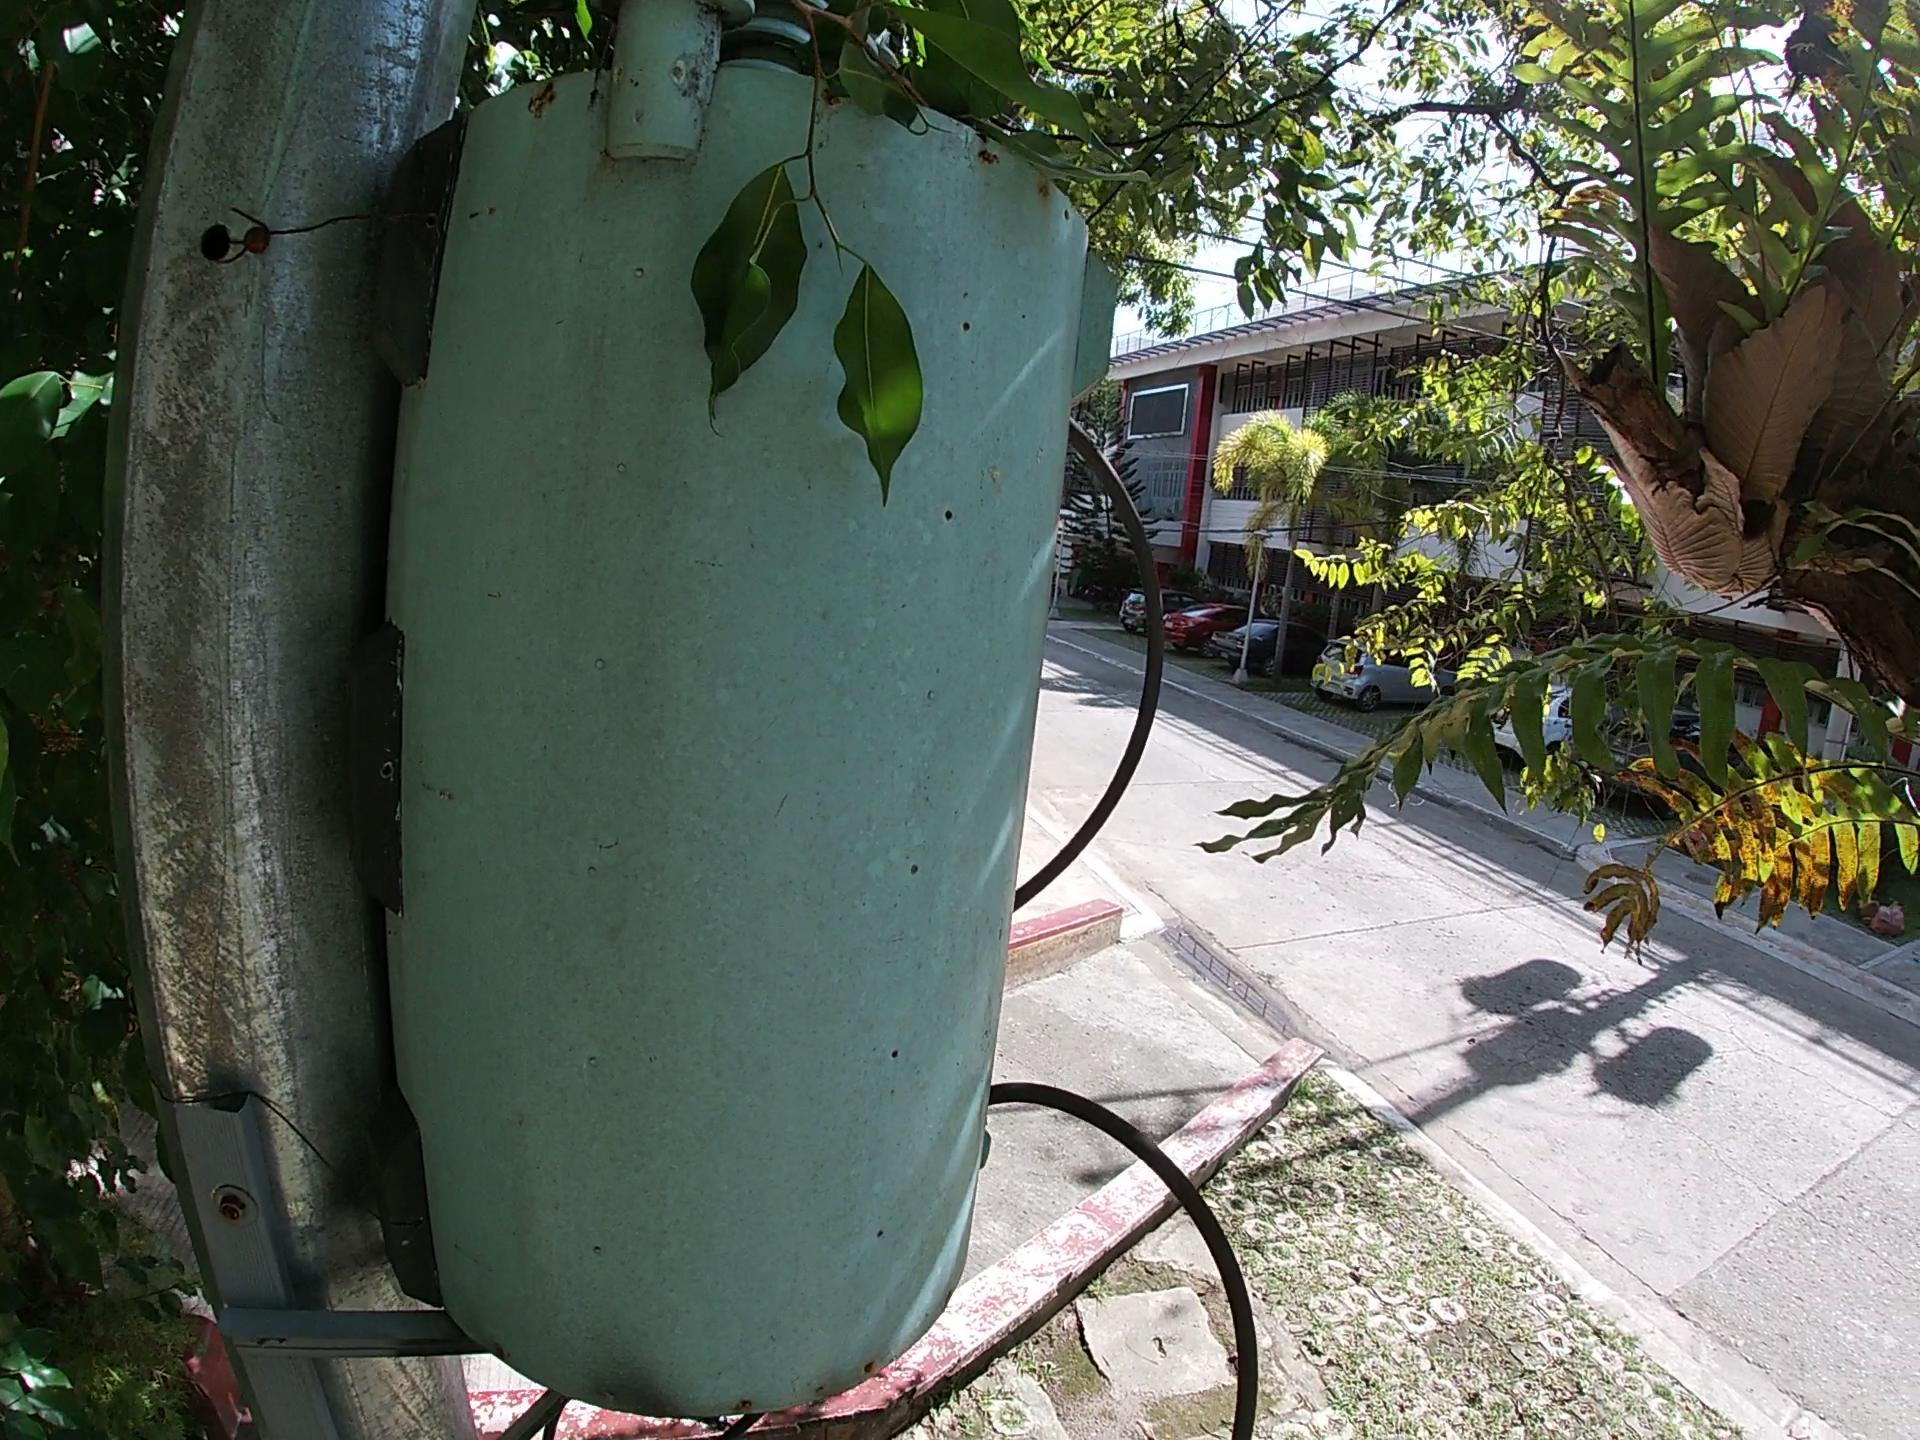branch with leaves: (679, 2, 1144, 551)
